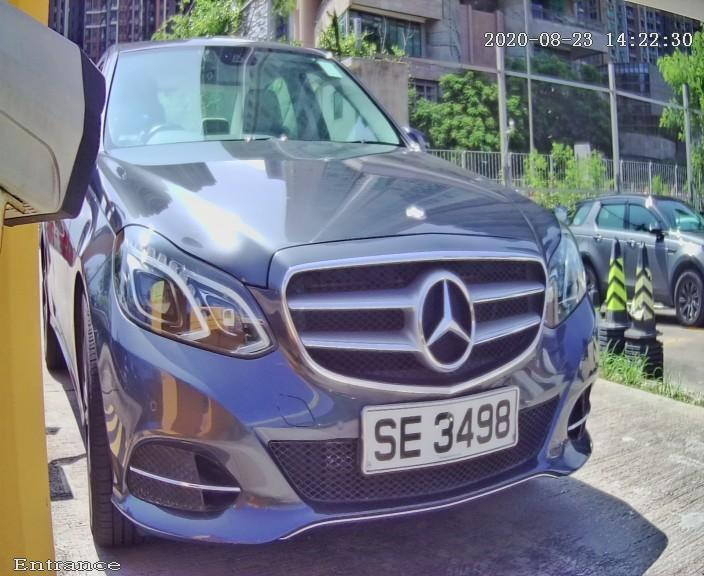Car: (13, 8, 635, 576)
License Plate: (328, 374, 544, 492)
